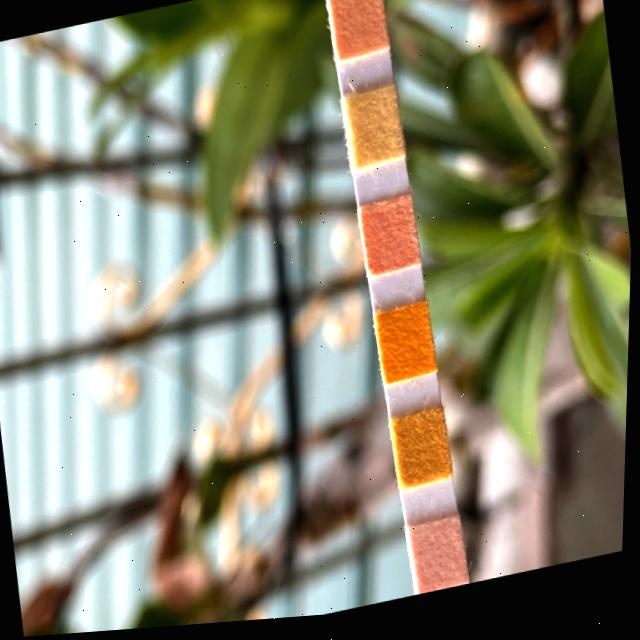Blood: (378, 309, 437, 388)
Ketone: (412, 524, 471, 602)
Protein: (345, 94, 404, 173)
SpGravity: (394, 416, 453, 495)
Urobilinogen: (330, 0, 388, 63)
pH: (361, 203, 420, 282)
